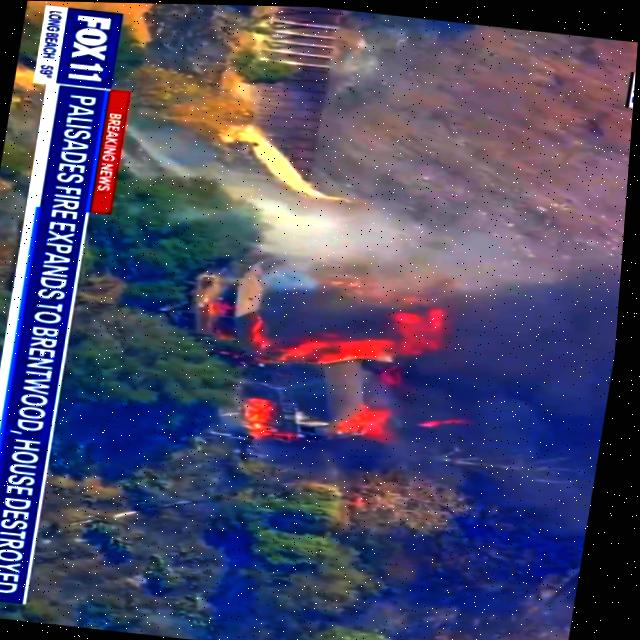Smoke: (404, 287, 624, 512)
